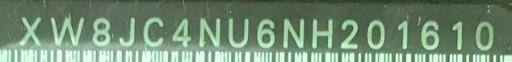letter: (47, 14, 87, 46), (310, 14, 336, 50), (196, 15, 224, 47), (140, 14, 166, 48), (226, 15, 252, 49), (280, 15, 306, 49), (18, 14, 42, 48), (418, 16, 442, 50), (472, 20, 496, 52), (170, 14, 192, 48), (337, 17, 359, 50), (364, 17, 386, 49), (256, 16, 276, 49), (116, 15, 136, 47), (91, 16, 111, 46), (449, 18, 465, 52), (394, 17, 410, 50)
